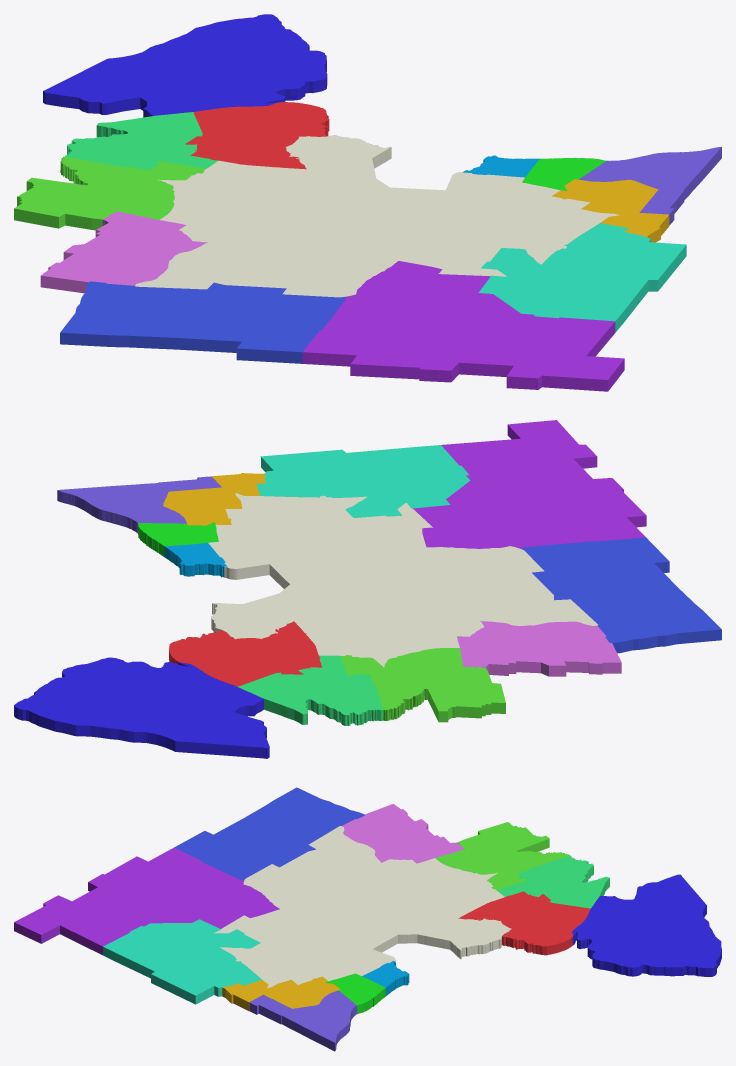
File: toexportfixedmap.glb
3 renders of one model, top to bottom at view 1: azimuth 30°, elevation 25°; view 2: azimuth 150°, elevation 25°; view 3: azimuth 270°, elevation 25°, orthographic. The views are drawn at different scales.
Visible parts, largest first — view 1: Cañuelas, SAN FERNANDO PARTIDO, general las heras, SAN VICENTE, PILAR, MARCOS PAZ, General Rodriguez, TIGRE, LA MATANZA, ESCOBAR, BERAZATEGUI, EZEIZA (+20 smaller); view 2: Cañuelas, SAN FERNANDO PARTIDO, general las heras, SAN VICENTE, PILAR, General Rodriguez, MARCOS PAZ, ESCOBAR, TIGRE, LA MATANZA, BERAZATEGUI, EZEIZA (+20 smaller); view 3: Cañuelas, SAN FERNANDO PARTIDO, SAN VICENTE, general las heras, MARCOS PAZ, TIGRE, PILAR, General Rodriguez, LA MATANZA, ESCOBAR, BERAZATEGUI, EZEIZA (+19 smaller).
Boxes of the visible parts, left/top/right/bottom form: Cañuelas: left=302, top=261, right=624, bottom=391; SAN FERNANDO PARTIDO: left=43, top=14, right=327, bottom=117; general las heras: left=60, top=281, right=346, bottom=363; SAN VICENTE: left=478, top=223, right=686, bottom=332; PILAR: left=14, top=156, right=205, bottom=230; MARCOS PAZ: left=135, top=240, right=380, bottom=297; General Rodriguez: left=40, top=211, right=207, bottom=293; TIGRE: left=185, top=102, right=329, bottom=169; LA MATANZA: left=305, top=186, right=445, bottom=271; ESCOBAR: left=65, top=112, right=218, bottom=169; BERAZATEGUI: left=579, top=146, right=721, bottom=225; EZEIZA: left=394, top=207, right=506, bottom=276; Cañuelas: left=413, top=420, right=646, bottom=549; SAN FERNANDO PARTIDO: left=14, top=657, right=269, bottom=758; general las heras: left=521, top=537, right=721, bottom=653; SAN VICENTE: left=256, top=445, right=469, bottom=517; PILAR: left=340, top=648, right=505, bottom=722; General Rodriguez: left=457, top=621, right=621, bottom=676; MARCOS PAZ: left=432, top=546, right=597, bottom=625; ESCOBAR: left=237, top=655, right=383, bottom=725; TIGRE: left=169, top=621, right=322, bottom=686; LA MATANZA: left=269, top=547, right=476, bottom=593; BERAZATEGUI: left=57, top=476, right=221, bottom=533; EZEIZA: left=312, top=503, right=432, bottom=566; Cañuelas: left=14, top=847, right=279, bottom=955; SAN FERNANDO PARTIDO: left=572, top=874, right=721, bottom=976; SAN VICENTE: left=103, top=919, right=261, bottom=1004; general las heras: left=174, top=787, right=365, bottom=880; MARCOS PAZ: left=243, top=826, right=381, bottom=899; TIGRE: left=458, top=891, right=590, bottom=955; PILAR: left=435, top=822, right=569, bottom=890; General Rodriguez: left=342, top=803, right=464, bottom=863; LA MATANZA: left=269, top=882, right=407, bottom=952; ESCOBAR: left=497, top=855, right=609, bottom=908; BERAZATEGUI: left=249, top=990, right=357, bottom=1051; EZEIZA: left=214, top=909, right=354, bottom=942.
Size of the model in its own units: 3.61 by 0.0588 by 4.23.
